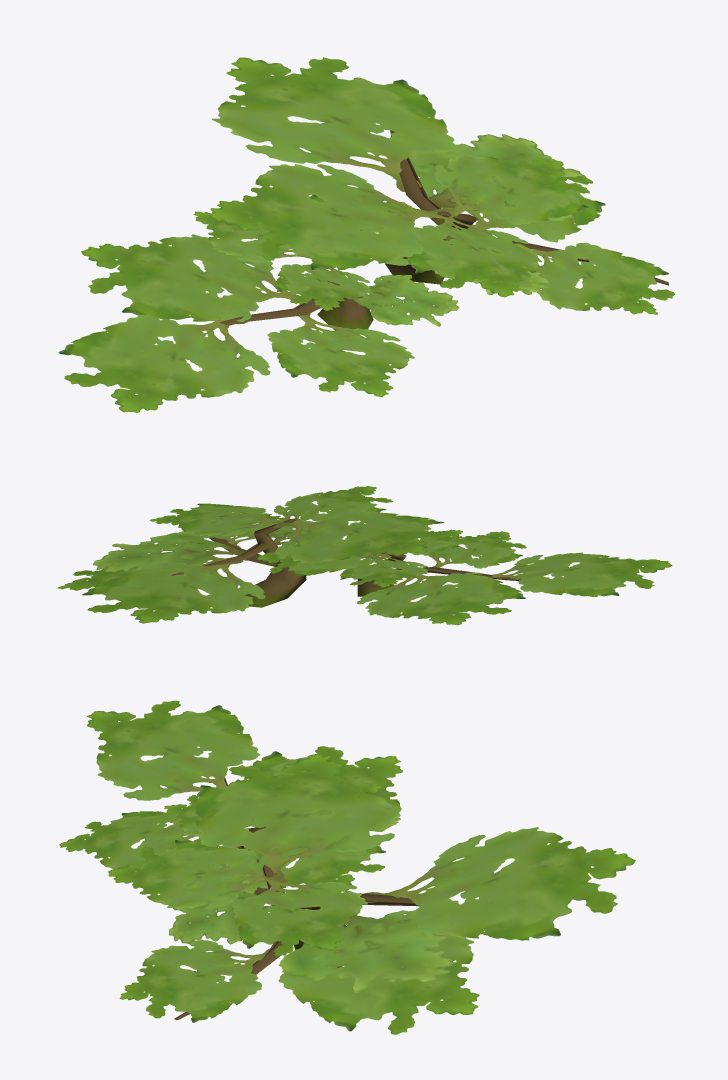
Rendered from liemo_plant_07 (17) #65350082.fbx.
3 renders of one model, top to bottom at view 1: azimuth 30°, elevation 25°; view 2: azimuth 150°, elevation 25°; view 3: azimuth 270°, elevation 25°, orthographic. The views are drawn at different scales.
Visible parts, largest first — view 1: liemo_plant_07 (17); view 2: liemo_plant_07 (17); view 3: liemo_plant_07 (17).
Boxes of the visible parts, x1,y1,x2,y2 form: liemo_plant_07 (17): (58,57,674,412); liemo_plant_07 (17): (57,486,672,625); liemo_plant_07 (17): (59,700,635,1034).
Bounding box in the file's own units: 8.77 × 1.3 × 7.64.
